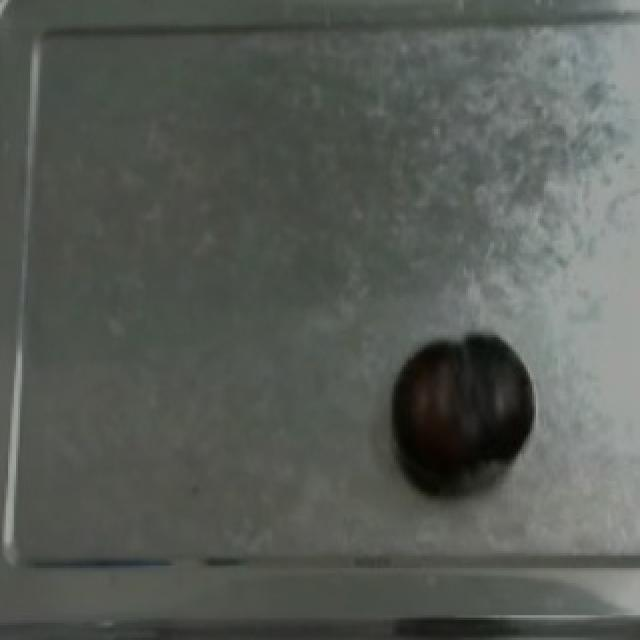Fruit: (384, 328, 538, 472)
